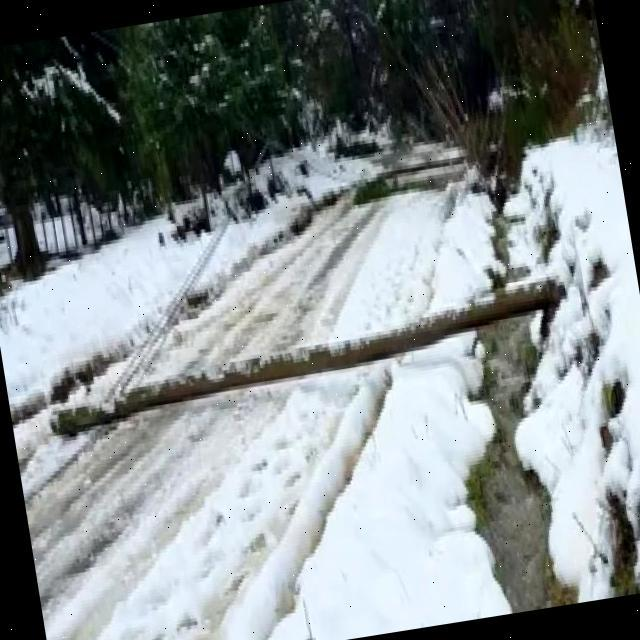Broken Pole: (52, 276, 557, 436)
